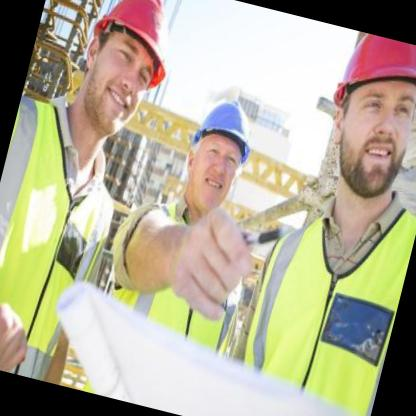helmet: (54, 0, 198, 153), (300, 26, 416, 214), (166, 73, 274, 227)
